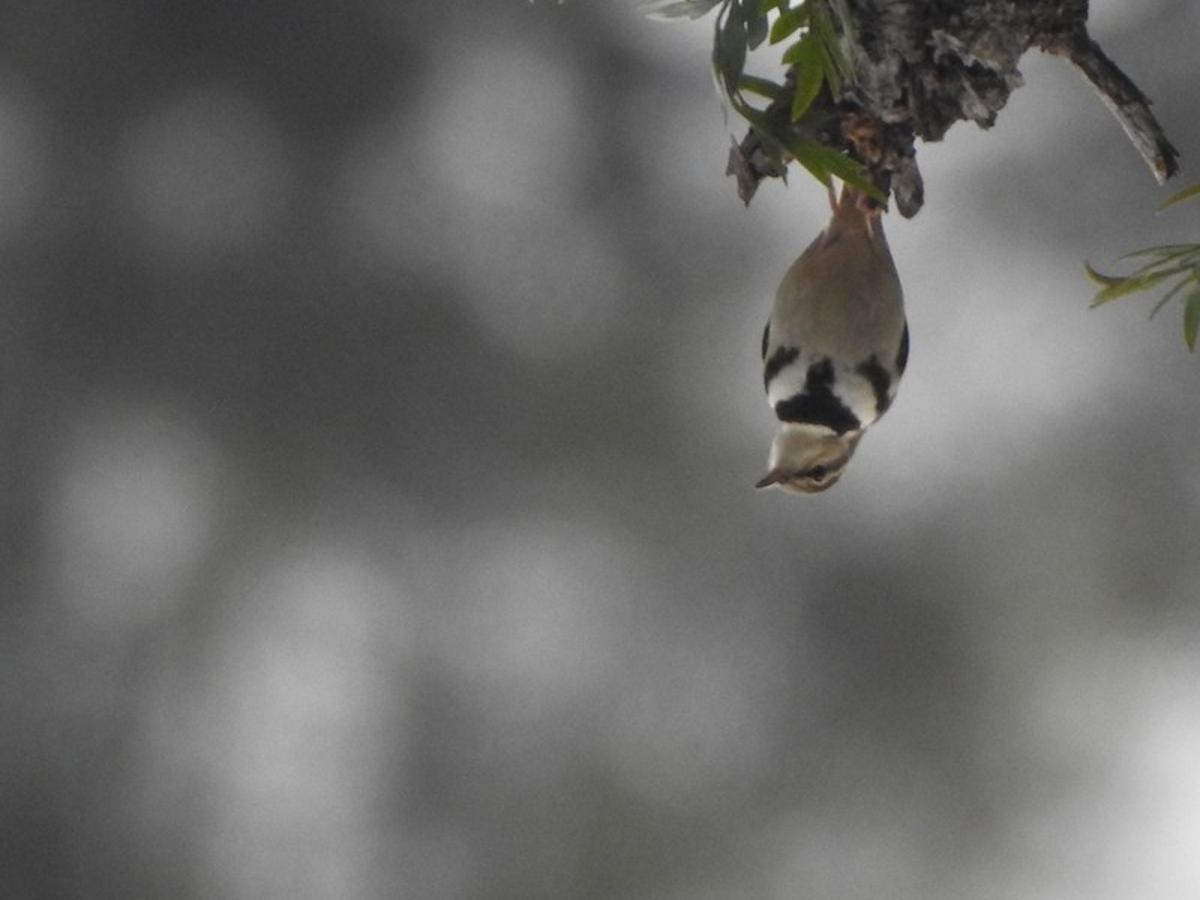wagtail: (740, 217, 917, 511)
